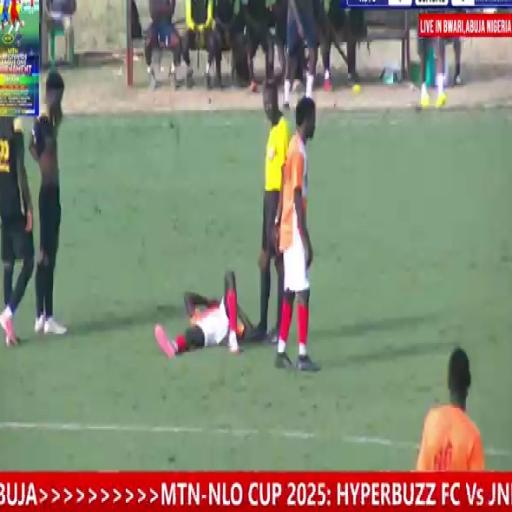referee: (254, 82, 288, 348)
team1: (279, 80, 325, 374), (420, 330, 490, 476), (151, 264, 249, 360)
team2: (0, 120, 36, 346), (42, 64, 68, 336)
